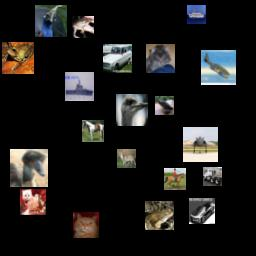airplane: (183, 127, 218, 162), (201, 50, 236, 85)
automobile: (103, 44, 132, 73), (189, 198, 215, 224)
bird: (10, 149, 48, 187), (35, 5, 67, 37), (116, 94, 148, 126)
cat: (146, 44, 175, 73), (20, 189, 46, 215), (73, 212, 99, 238)
deer: (117, 149, 136, 168)
frog: (2, 42, 34, 74), (145, 201, 174, 230), (72, 16, 94, 38), (155, 96, 174, 115)
ship: (65, 72, 94, 101), (187, 5, 206, 24)
truck: (203, 167, 222, 186)
